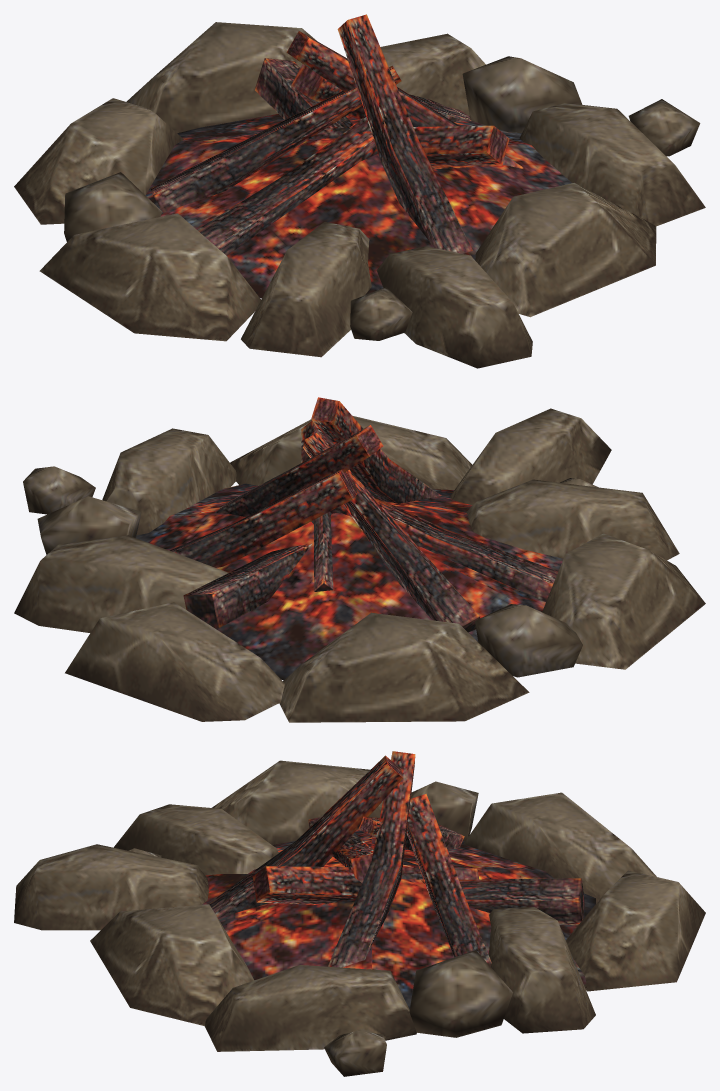
Rendered from 4008_Item_huodui_1.FBX.
The picture shows the model from 3 angles, top to bottom: view 1: azimuth 30°, elevation 25°; view 2: azimuth 150°, elevation 25°; view 3: azimuth 270°, elevation 25°; orthographic projection. The views are drawn at different scales.
Visible parts, largest first — view 1: 4008_Item_huodui_1; view 2: 4008_Item_huodui_1; view 3: 4008_Item_huodui_1.
Boxes of the visible parts, left/top/right/bottom form: 4008_Item_huodui_1: left=14, top=14, right=705, bottom=368; 4008_Item_huodui_1: left=14, top=397, right=705, bottom=722; 4008_Item_huodui_1: left=14, top=751, right=705, bottom=1076.
Size of the model in its own units: 602 by 191 by 619.
